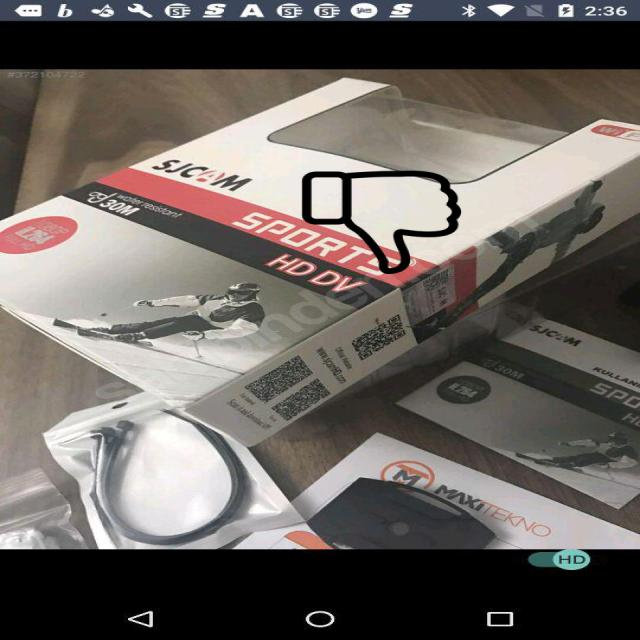obstruction: (300, 171, 463, 274)
